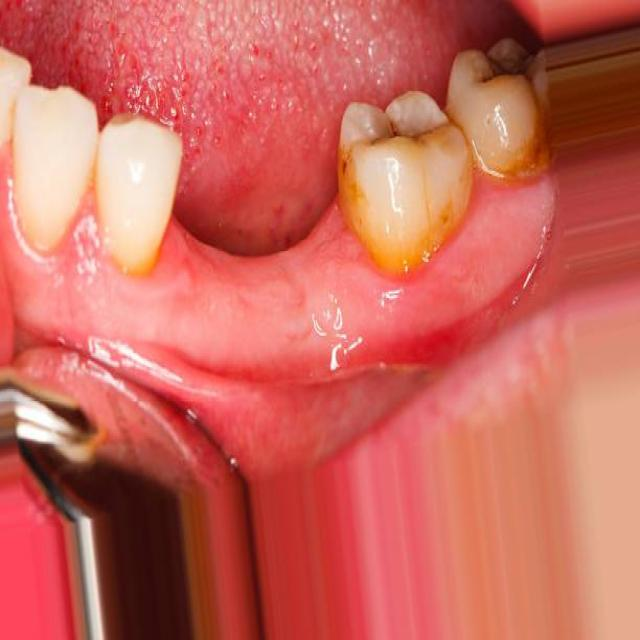caries: (471, 37, 549, 97), (358, 103, 431, 156)
